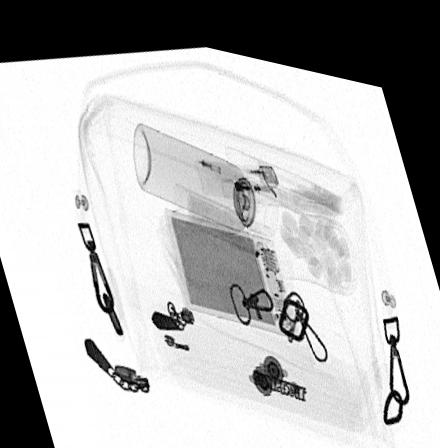Lighter: (194, 149, 281, 181)
Powerbank: (163, 199, 298, 323)
Sprayer: (132, 114, 278, 225)
